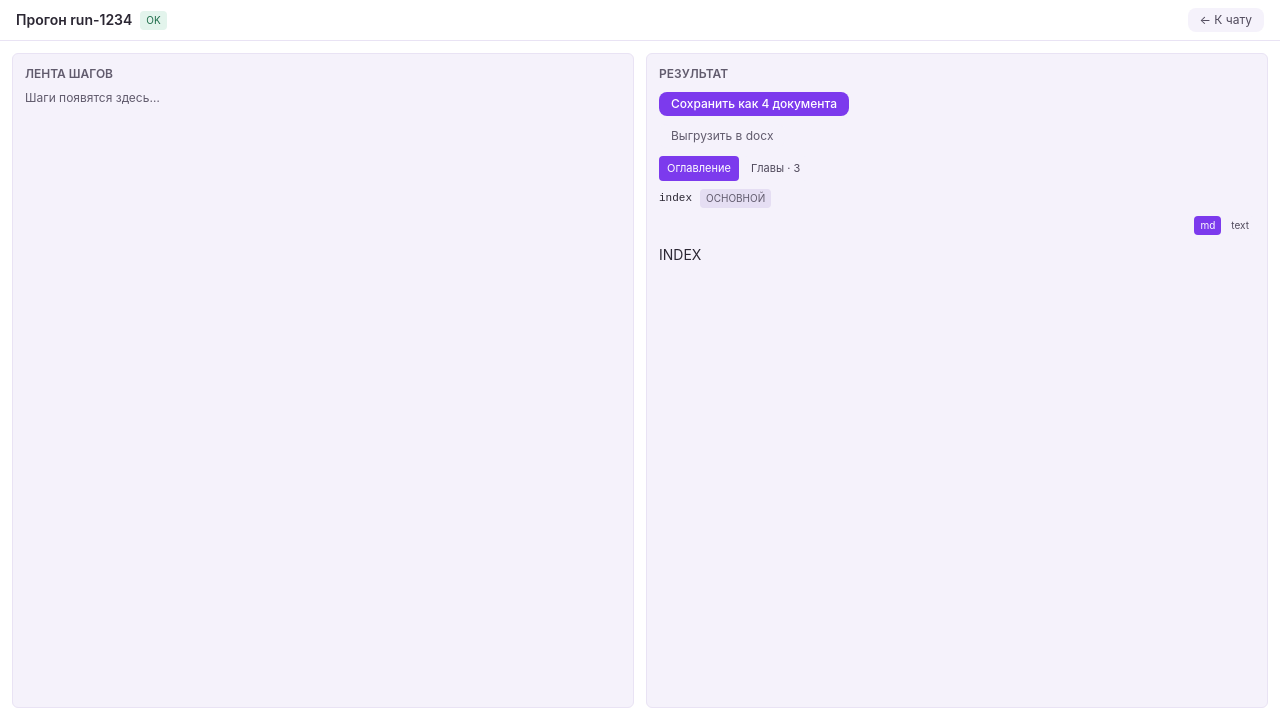
it: RunView collection outputs › expands the first chapter and keeps the rest collapsed and unmounted
Click the tab "Главы · 3".
click(776, 168)  # box [743, 156, 808, 180]
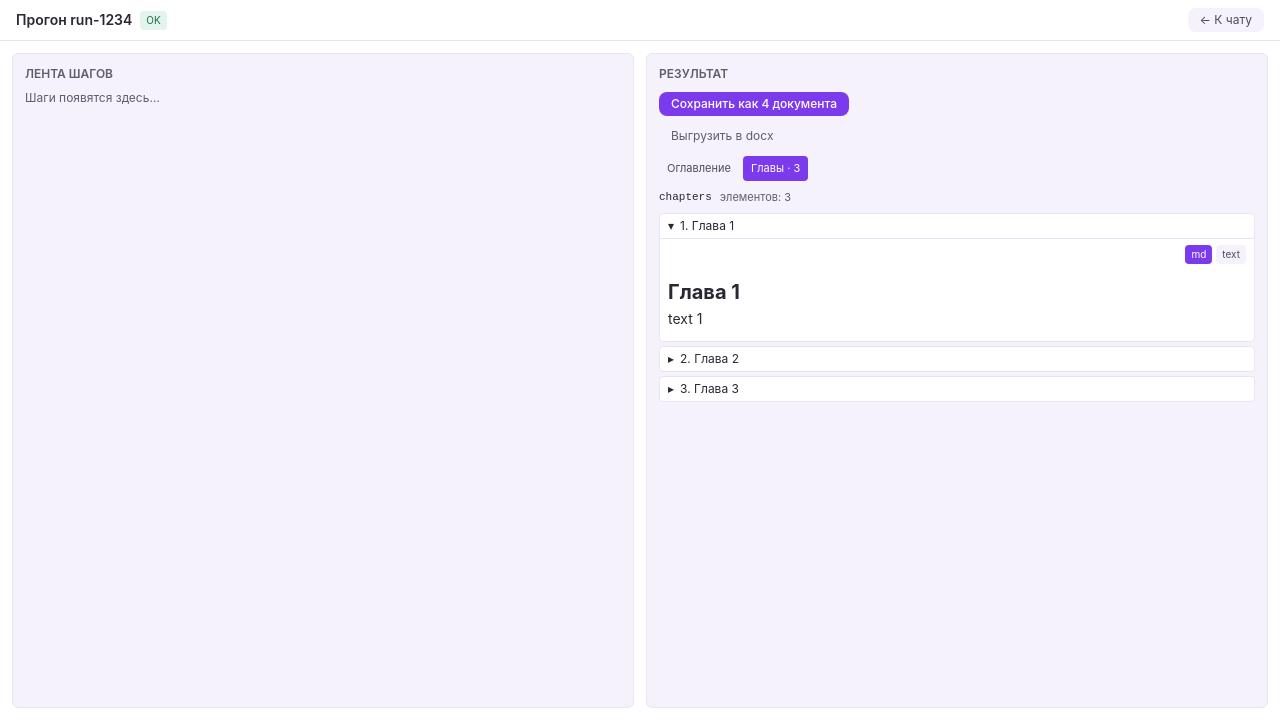
Expected: the text "text 2" is not shown
Result: the text "text 1" is shown at [668, 310, 702, 327]
Click the button "▸ 2. Глава 2".
click(717, 359)  # box [660, 347, 1254, 371]
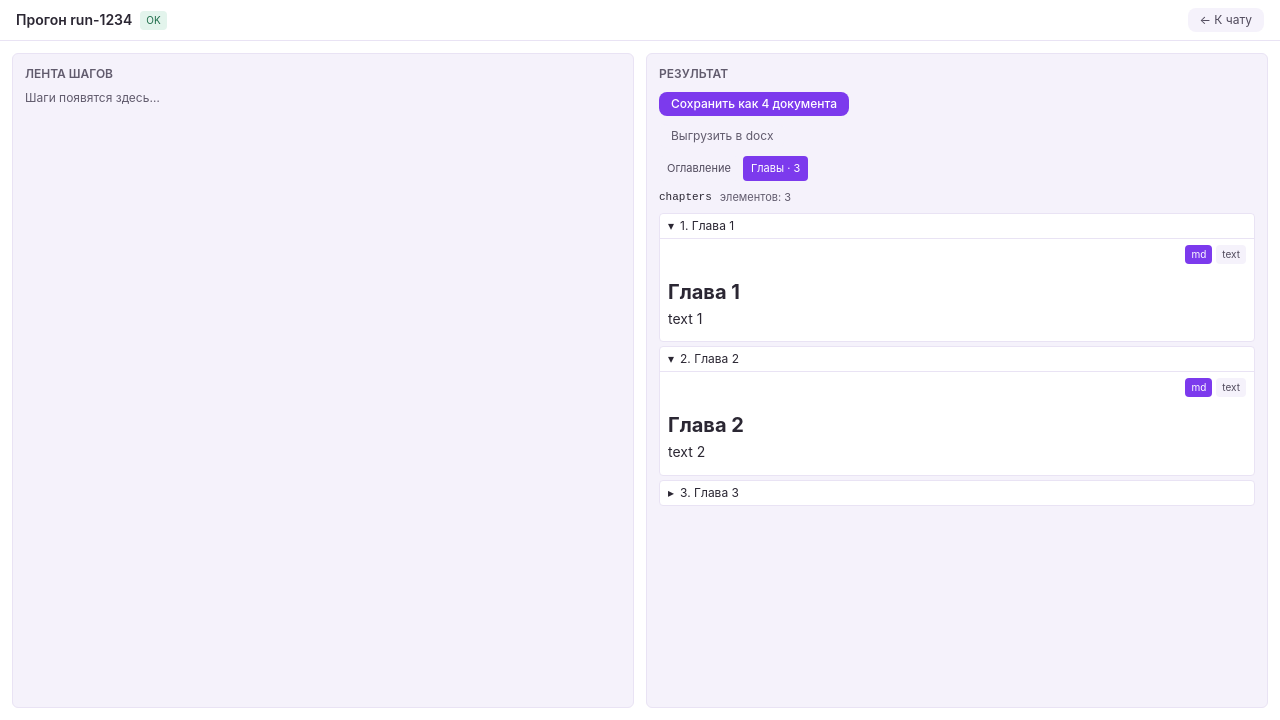
Result: the text "text 2" is shown at [668, 443, 705, 460]
